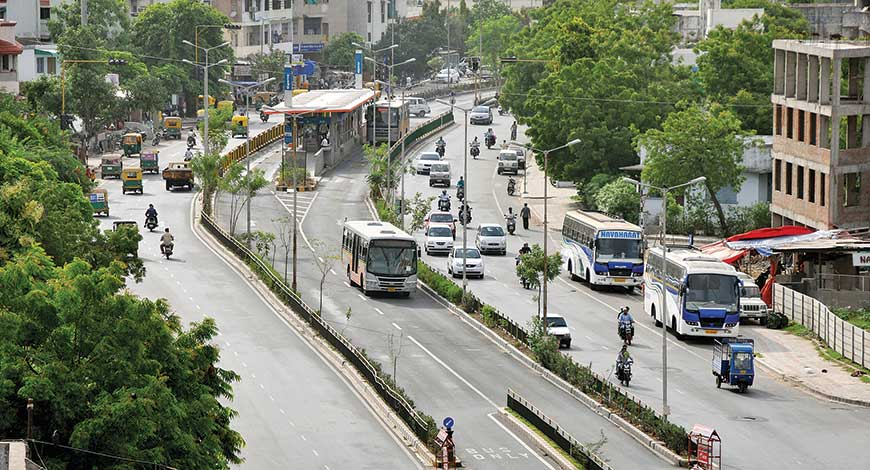bus: (640, 239, 754, 354), (559, 201, 656, 301), (338, 215, 427, 305)
car: (521, 307, 580, 357), (438, 240, 489, 285), (470, 222, 513, 258), (419, 225, 458, 258), (425, 160, 456, 191), (493, 146, 522, 179)
two_wheeler: (604, 345, 650, 395), (610, 299, 644, 352), (499, 202, 523, 237), (434, 185, 456, 219), (457, 198, 475, 231)
